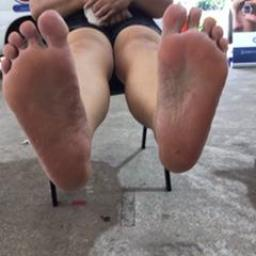Plantar View -Both Feet-: (1, 2, 235, 207)
